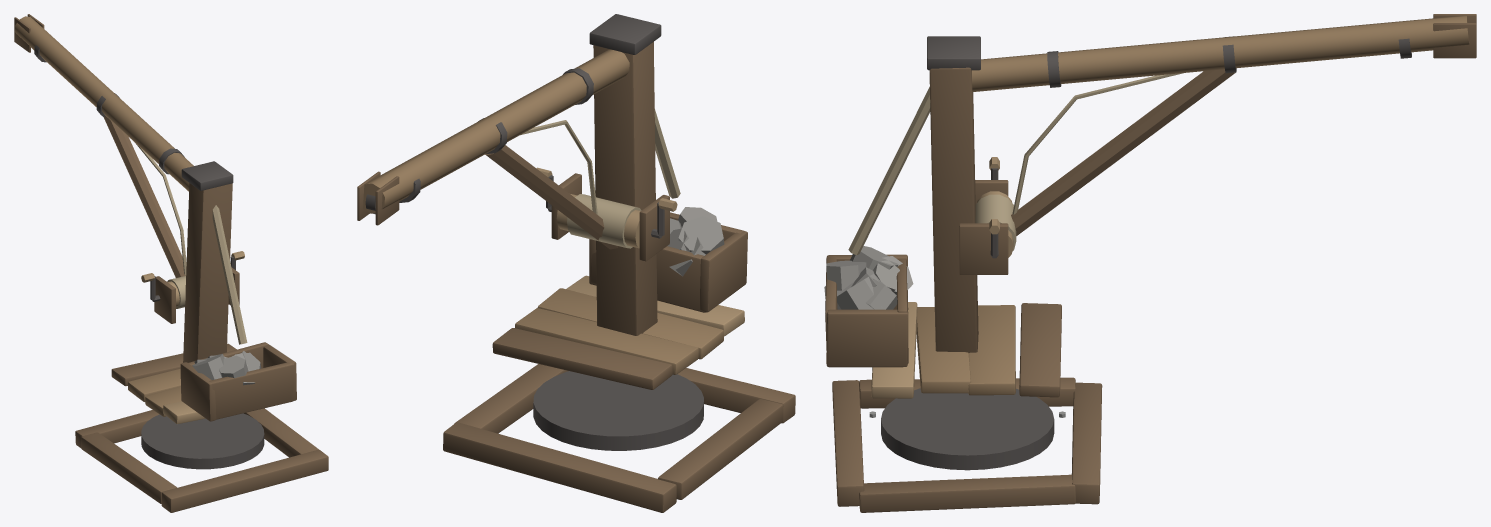
Rendered from wood_crane.glb.
The picture shows the model from 3 angles, left to right: view 1: azimuth 30°, elevation 25°; view 2: azimuth 150°, elevation 25°; view 3: azimuth 270°, elevation 25°; orthographic projection. The views are drawn at different scales.
Visible parts, largest first — view 1: Top, Part; view 2: Top, Part; view 3: Top, Part.
Part boxes in pixels (x1,y1,x2,y2): Top: (14, 14, 296, 423); Part: (75, 408, 328, 512); Top: (357, 14, 747, 389); Part: (443, 364, 795, 512); Top: (824, 14, 1476, 398); Part: (832, 377, 1102, 512).
Bounding box in the file's own units: 1.01 × 1.8 × 2.41.
